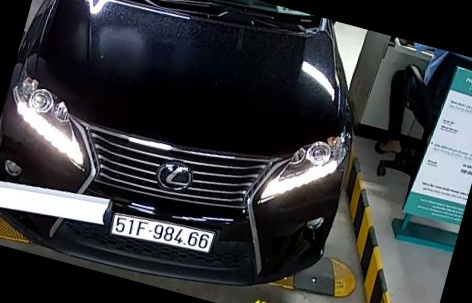plate: (110, 206, 218, 266)
